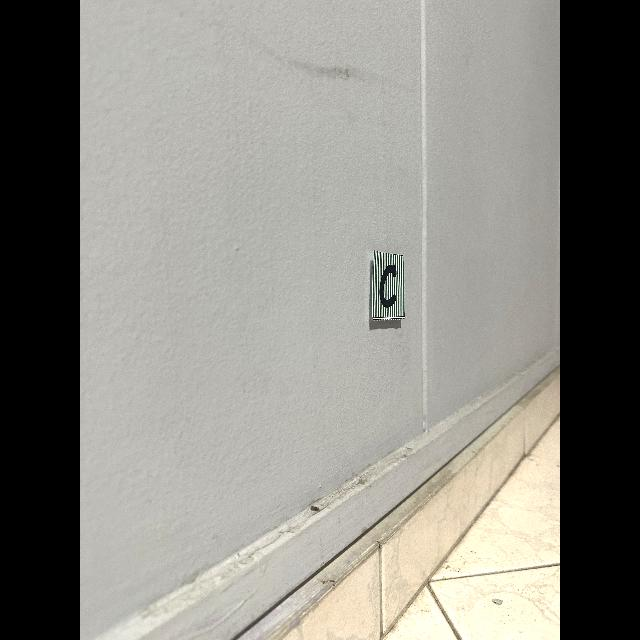C: (380, 264, 396, 308)
